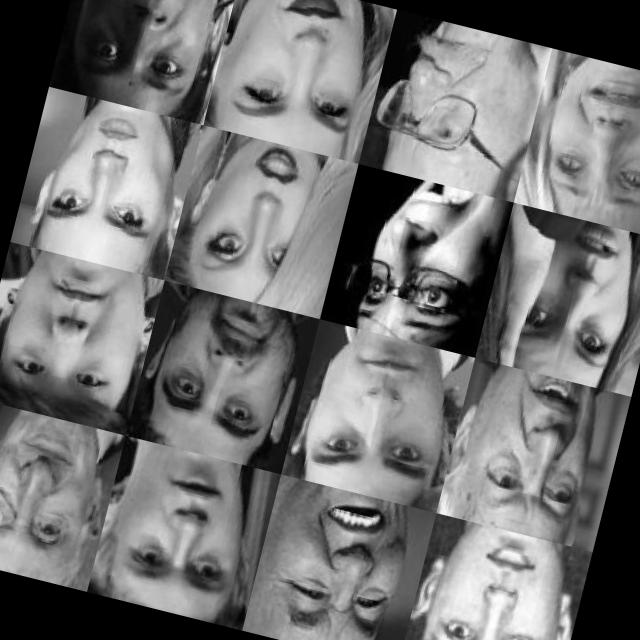fear: (342, 188, 489, 356), (503, 228, 640, 379)
happy: (219, 0, 378, 147), (109, 440, 253, 602), (273, 484, 409, 640), (0, 419, 97, 569)
neutral: (380, 17, 538, 180), (461, 369, 612, 539), (179, 135, 326, 296), (5, 256, 144, 411), (156, 303, 297, 450), (44, 111, 176, 262), (307, 348, 445, 488), (421, 525, 574, 640), (82, 0, 205, 89)
sad: (540, 60, 640, 220)
